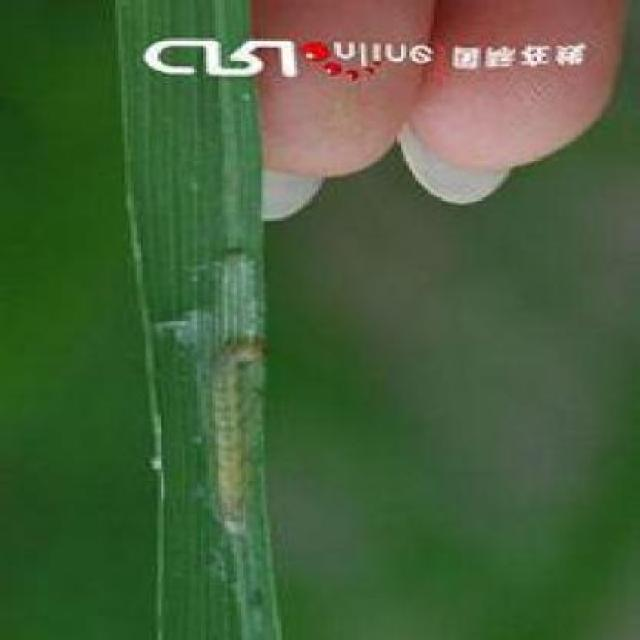leaf-folder: (154, 328, 340, 588)
